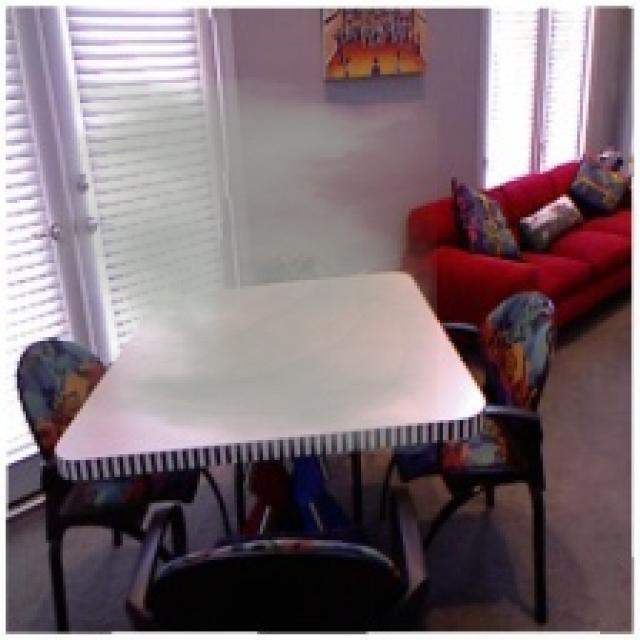Smoke: (57, 77, 437, 454)
